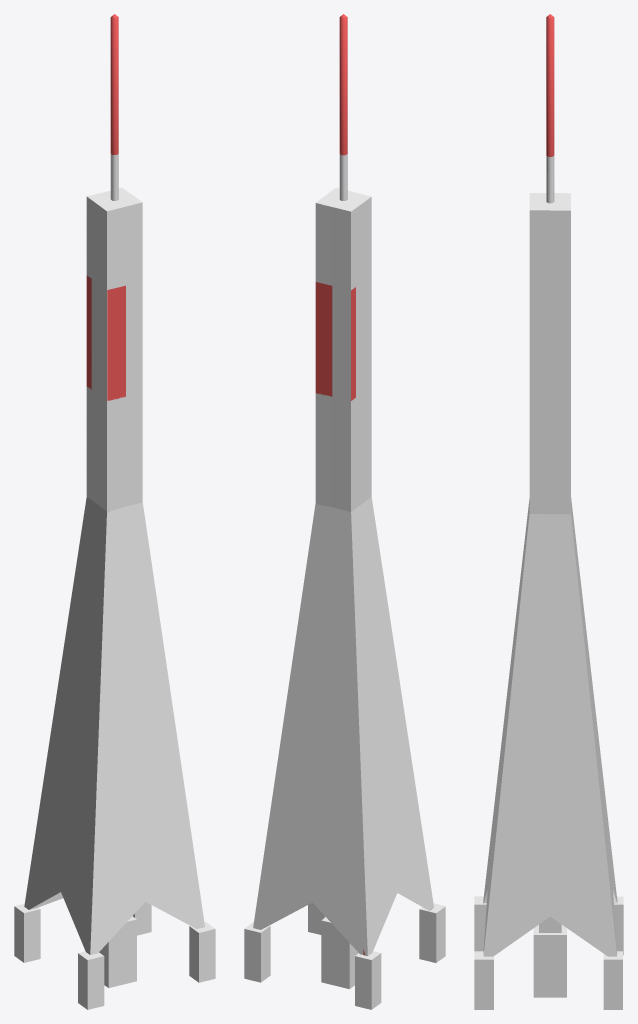
File: antenna.dae
3 renders of one model, left to right at view 1: azimuth 30°, elevation 25°; view 2: azimuth 150°, elevation 25°; view 3: azimuth 270°, elevation 25°, orthographic.
Visible parts, largest first — view 1: Colmesh-1, antenna_a250; view 2: Colmesh-1, antenna_a250; view 3: Colmesh-1, antenna_a250.
Part boxes in pixels (<box>): Colmesh-1: <box>24,188,204,954</box>; antenna_a250: <box>14,14,215,1009</box>; Colmesh-1: <box>253,187,433,955</box>; antenna_a250: <box>244,14,445,1009</box>; Colmesh-1: <box>483,193,617,956</box>; antenna_a250: <box>474,14,623,1009</box>.
Size of the model in its own units: 9 by 8.98 by 64.83.
